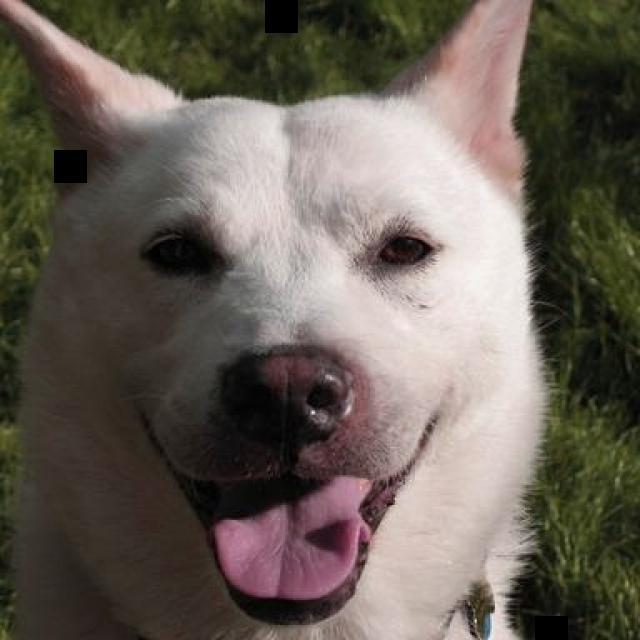adult_dog: (1, 0, 549, 639)
